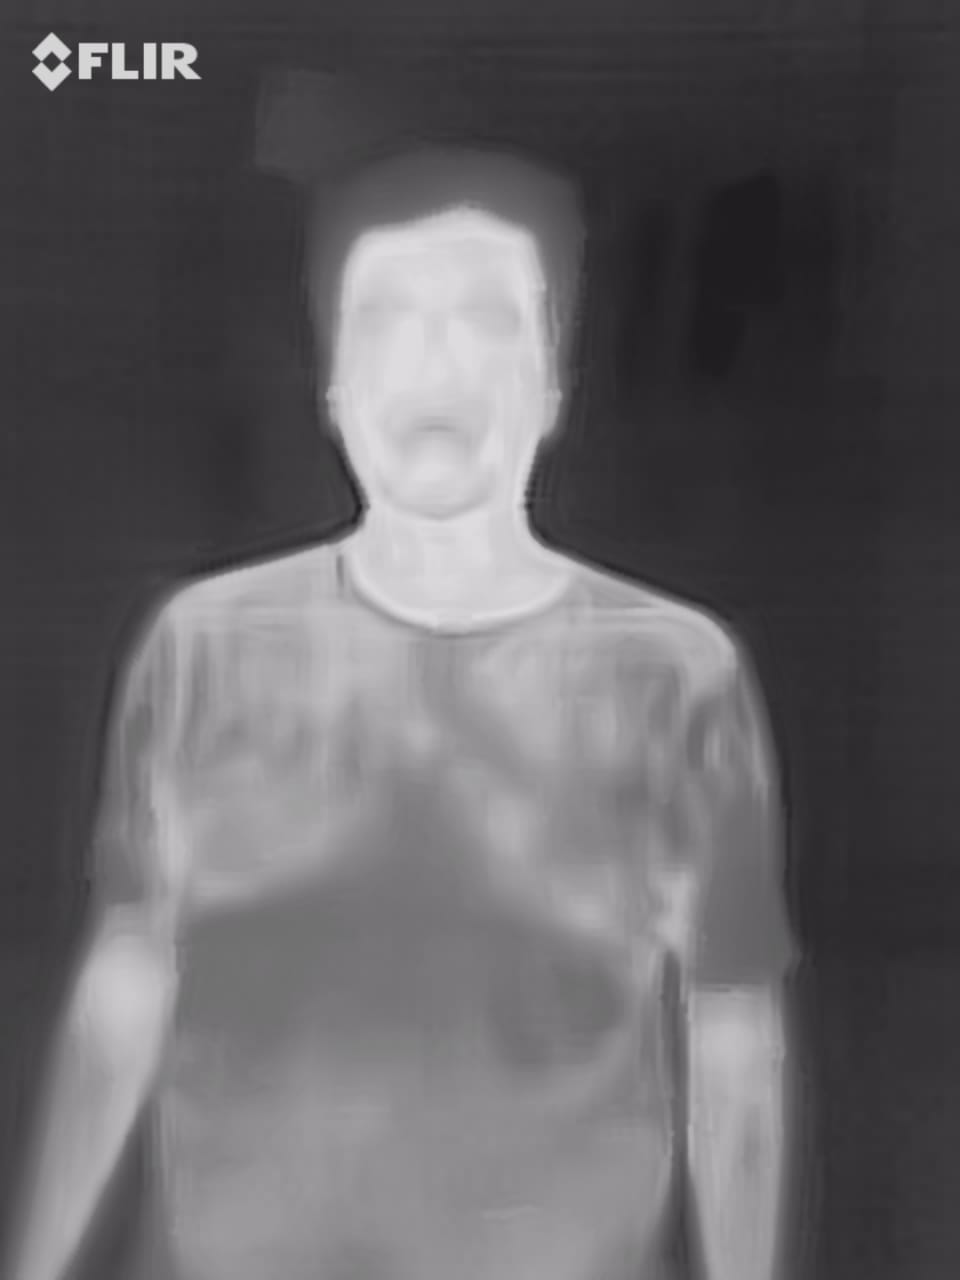head: (305, 140, 580, 508)
